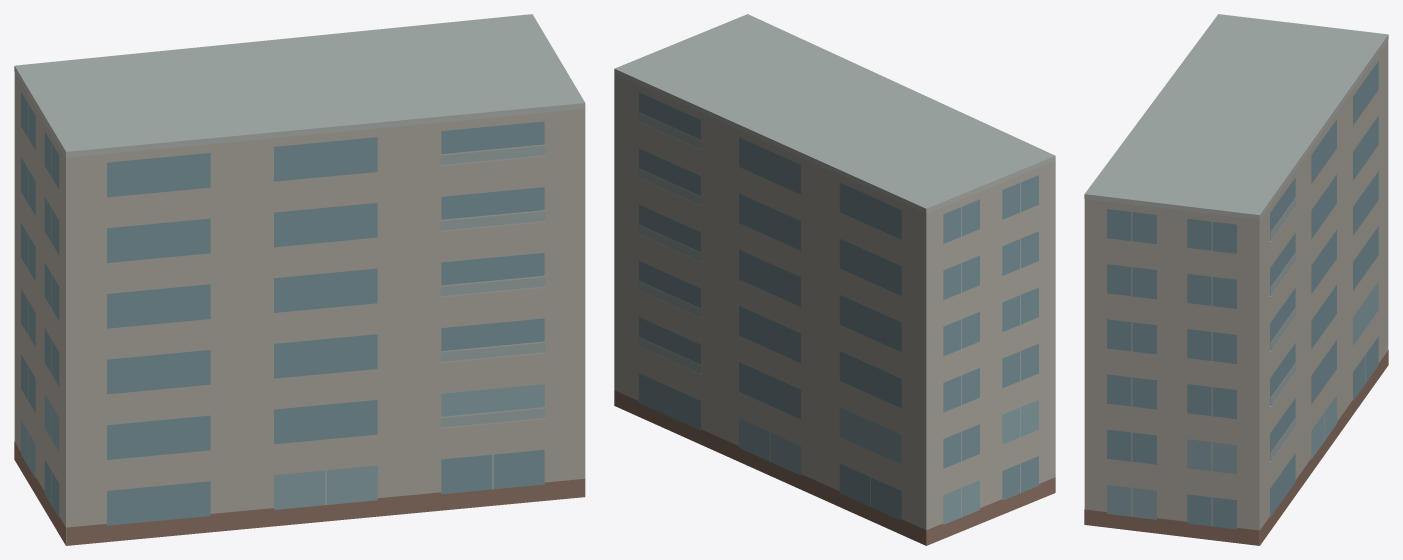
Rendered from survey-upis-32871069.glb.
3 renders of one model, left to right at view 1: azimuth 30°, elevation 25°; view 2: azimuth 150°, elevation 25°; view 3: azimuth 270°, elevation 25°, orthographic. The views are drawn at different scales.
Parts seen in each view (by area): view 1: survey-upis-32871069.tmp; view 2: survey-upis-32871069.tmp; view 3: survey-upis-32871069.tmp.
Boxes of the visible parts, x1,y1,x2,y2 form: survey-upis-32871069.tmp: [14, 14, 585, 545]; survey-upis-32871069.tmp: [614, 14, 1055, 545]; survey-upis-32871069.tmp: [1084, 14, 1388, 545].
Bounding box in the file's own units: 21.66 × 16.6 × 13.84.
